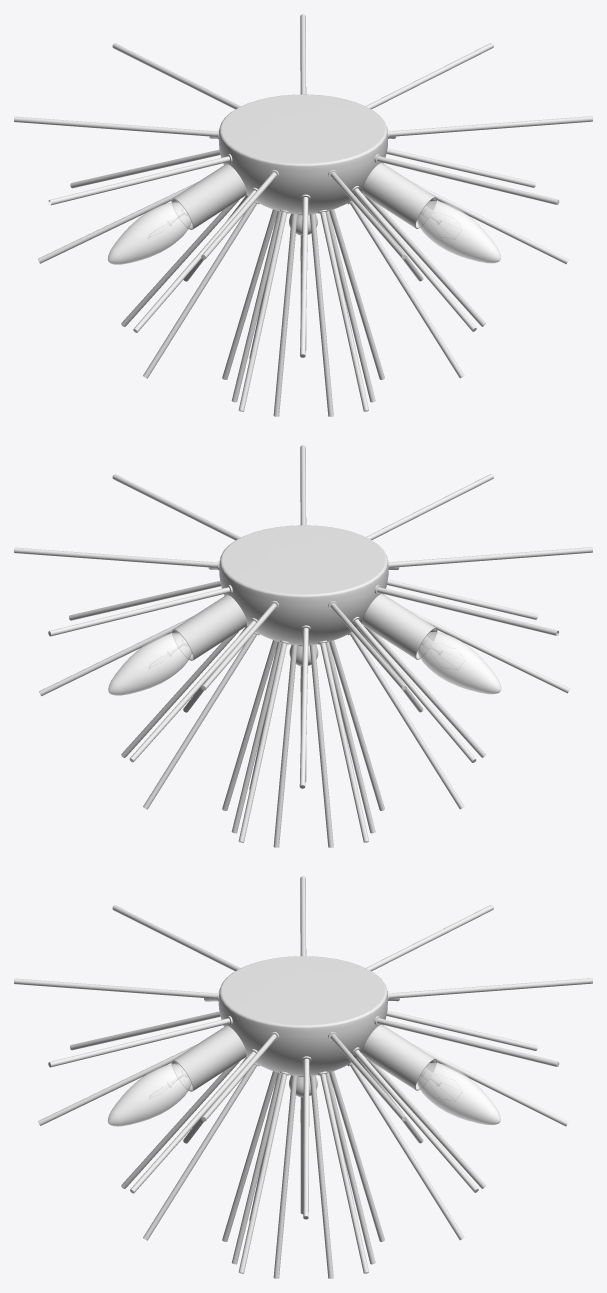
3 views of the same model, one above another, from view 1: azimuth 30°, elevation 25°; view 2: azimuth 150°, elevation 25°; view 3: azimuth 270°, elevation 25° (orthographic).
Visible parts, largest first — view 1: RootNode; view 2: RootNode; view 3: RootNode.
Part boxes in pixels (bbox=[...]): RootNode: bbox=[14, 14, 592, 416]; RootNode: bbox=[14, 445, 592, 847]; RootNode: bbox=[14, 876, 592, 1278].
Size of the model in its own units: 0.3968 by 0.1967 by 0.403.
Materials: 1 (1 with a texture image).
